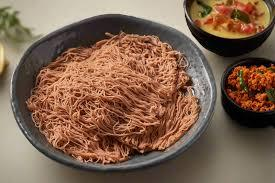String Hoppers: (23, 5, 194, 164)
